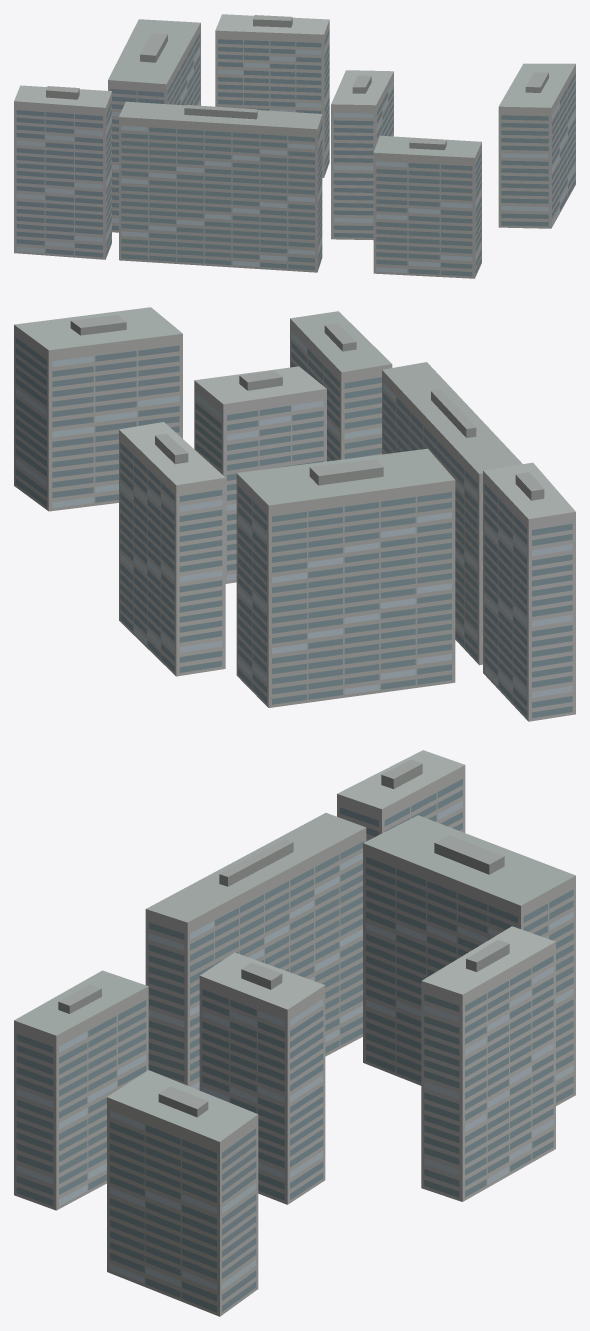
Rendered from apt-a12010202.glb.
The picture shows the model from 3 angles, top to bottom: view 1: azimuth 30°, elevation 25°; view 2: azimuth 150°, elevation 25°; view 3: azimuth 270°, elevation 25°; orthographic projection. The views are drawn at different scales.
Visible parts, largest first — view 1: apt-a12010202; view 2: apt-a12010202; view 3: apt-a12010202.
Part boxes in pixels (x1=…): apt-a12010202: x1=14, y1=14, x2=575, y2=278; apt-a12010202: x1=14, y1=307, x2=575, y2=721; apt-a12010202: x1=14, y1=750, x2=575, y2=1316.
Bounding box in the file's own units: 175 × 54 × 120.
